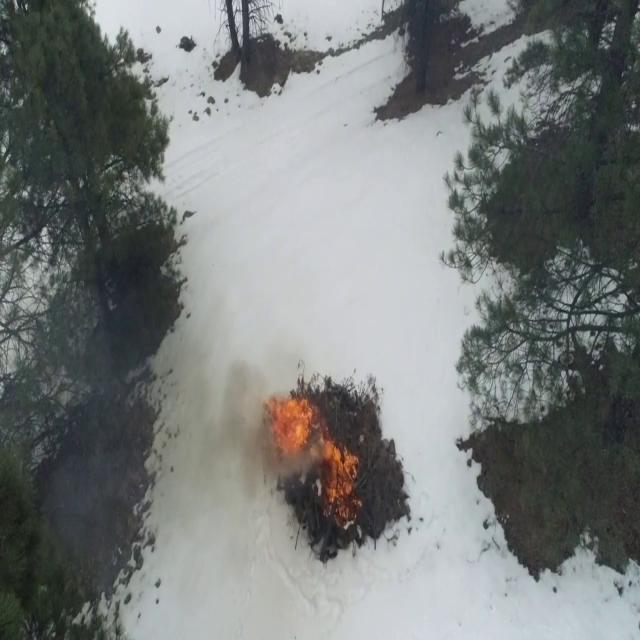fire: (266, 392, 314, 466), (324, 446, 359, 525)
